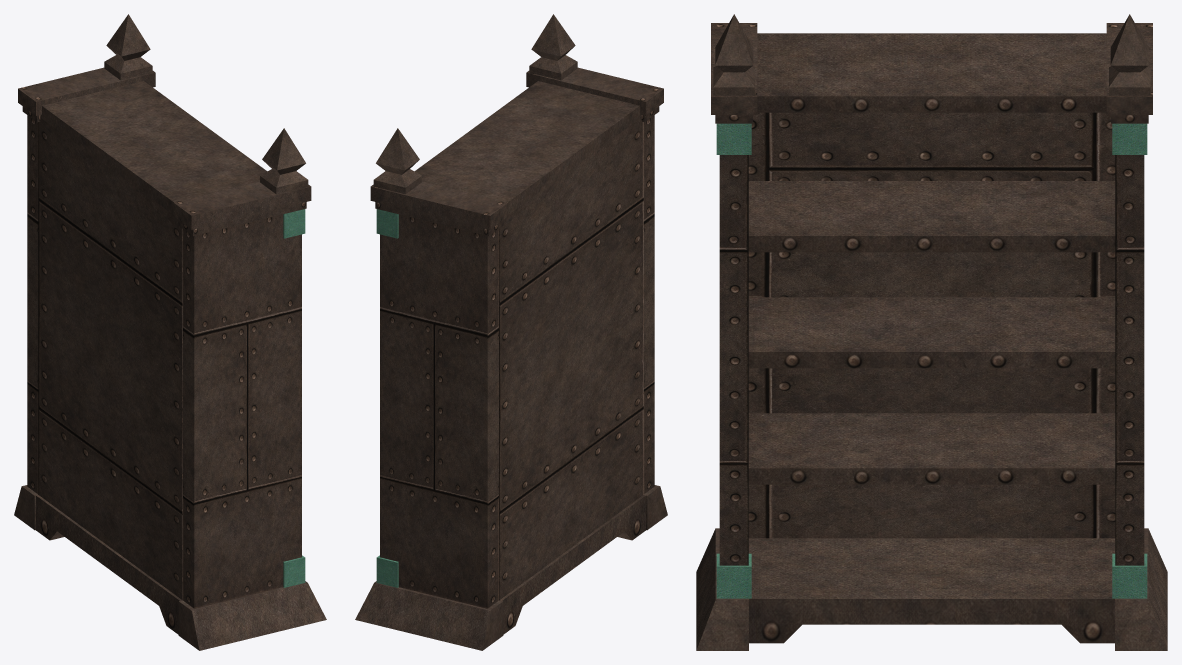
File: Book_Shelf_Metal.fbx
3 renders of one model, left to right at view 1: azimuth 30°, elevation 25°; view 2: azimuth 150°, elevation 25°; view 3: azimuth 270°, elevation 25°, orthographic. The views are drawn at different scales.
Parts seen in each view (by area): view 1: Book_Shelf_Metal; view 2: Book_Shelf_Metal; view 3: Book_Shelf_Metal.
Boxes of the visible parts, box(x1,y1,x2,y2) form: Book_Shelf_Metal: box(14, 14, 326, 650); Book_Shelf_Metal: box(355, 14, 667, 650); Book_Shelf_Metal: box(696, 14, 1167, 650).
Size of the model in its own units: 60.59 by 219 by 150.
